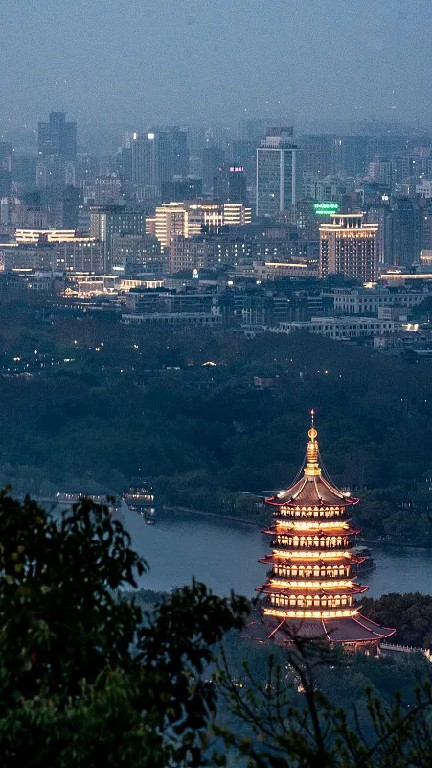Leifeng: (248, 408, 397, 661)
